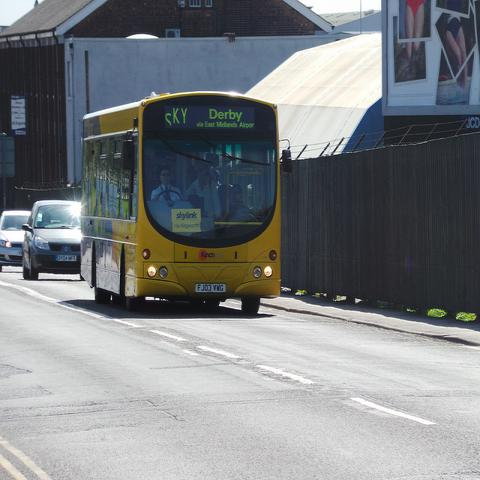bus: (81, 89, 292, 318)
car: (22, 200, 85, 281), (0, 208, 31, 263)
